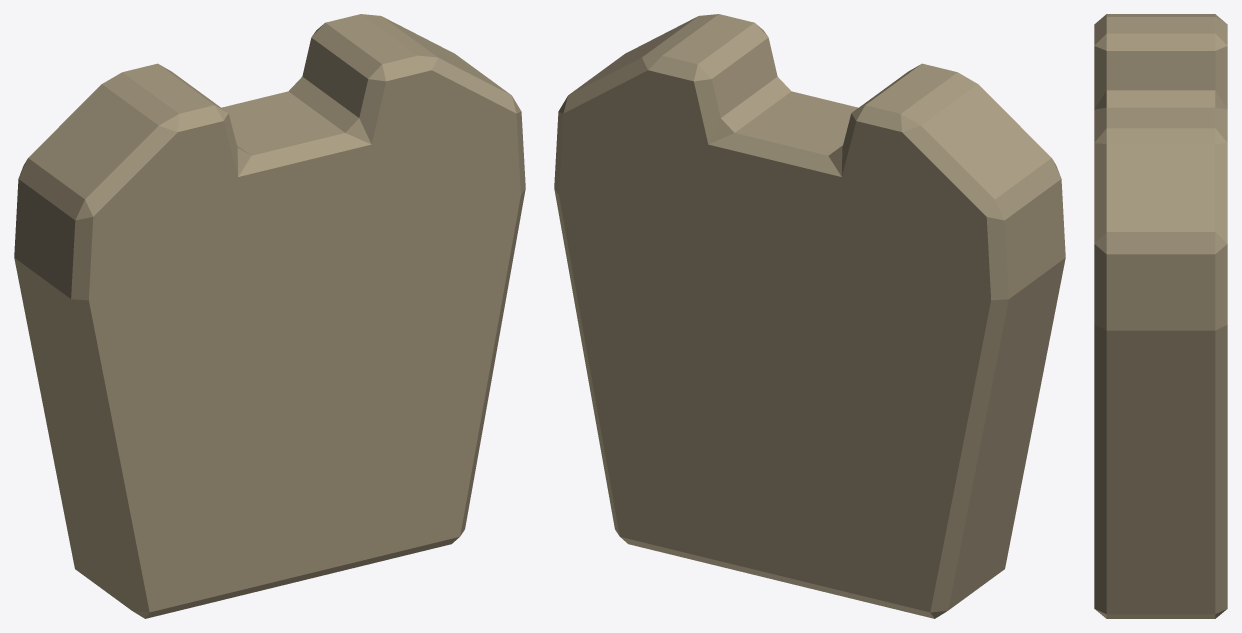
File: medium_chest.glb
3 views of the same model, side by side, from view 1: azimuth 30°, elevation 25°; view 2: azimuth 150°, elevation 25°; view 3: azimuth 270°, elevation 25° (orthographic). The views are drawn at different scales.
Visible parts, largest first — view 1: medium_chest; view 2: medium_chest; view 3: medium_chest.
Part boxes in pixels (bbox=[...]): medium_chest: bbox=[14, 14, 525, 618]; medium_chest: bbox=[554, 14, 1065, 618]; medium_chest: bbox=[1094, 14, 1227, 618].
Bounding box in the file's own units: 1.02 × 1.06 × 0.27.
